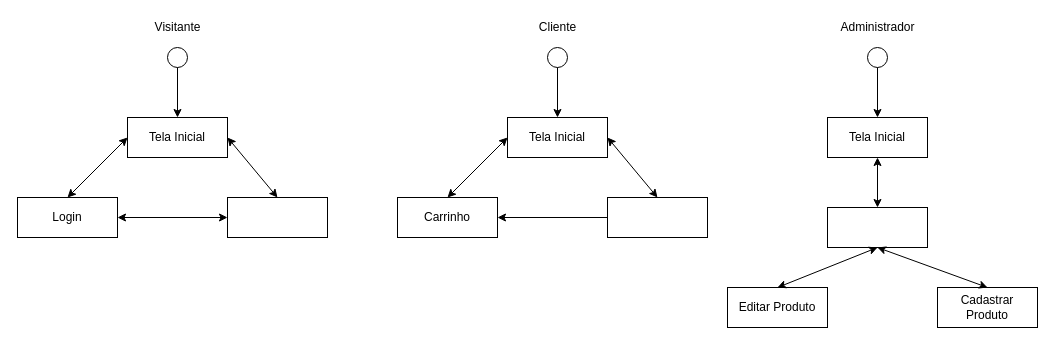
Some shapes in this 1055 by 345 pixel diagram are drawn without their labels. The shapes that lost their labels are listed below. From the top down, each one's centre as x and y in pixels, then its label:
pixel 277 217: Cadastre-se
pixel 657 217: Personalização
pixel 877 227: Administrativo
